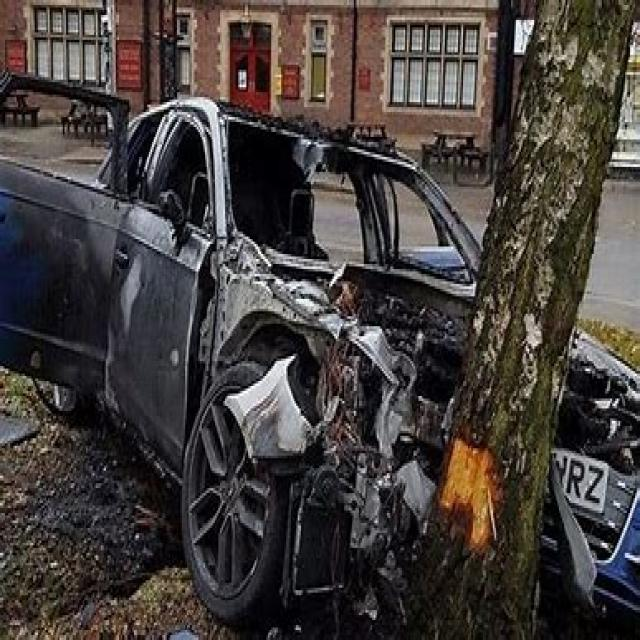Accident: (154, 106, 597, 592)
